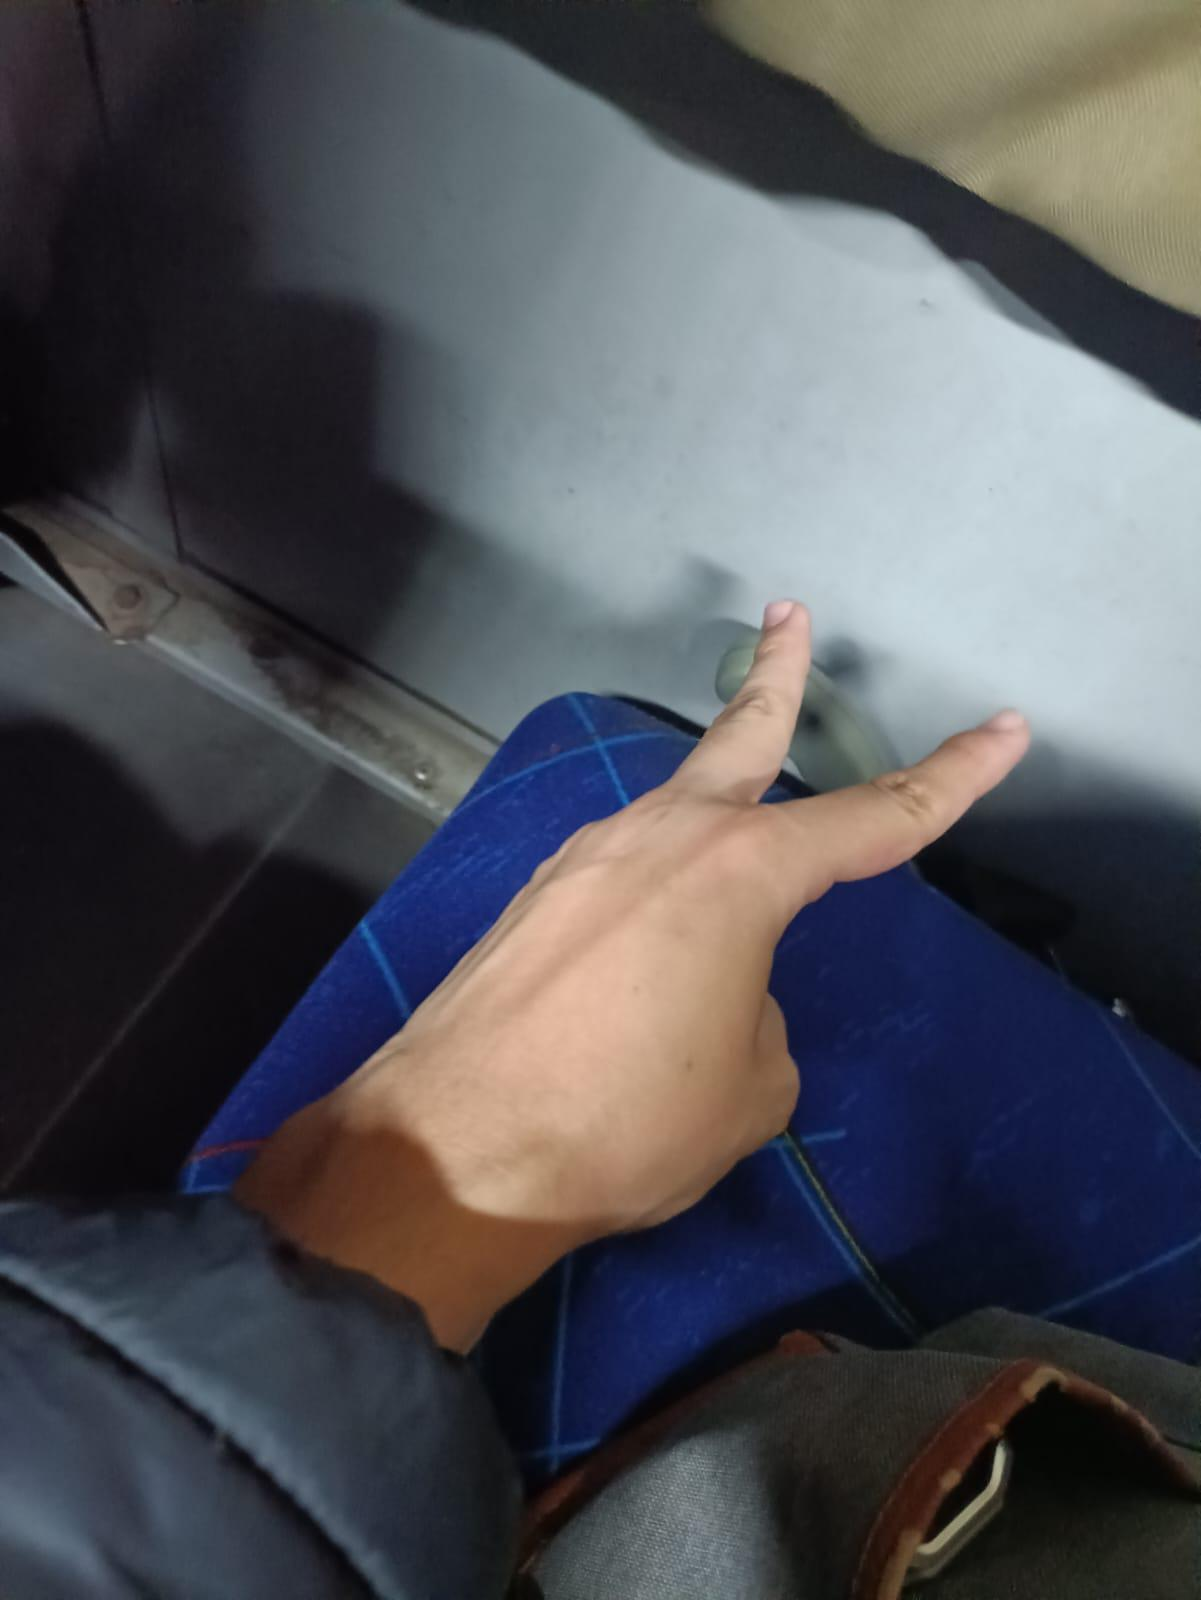Scissor: (241, 603, 1028, 1356)
